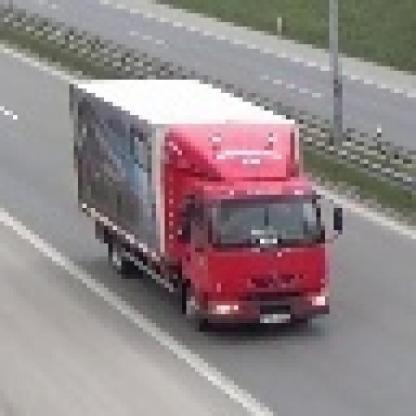truck: (75, 72, 348, 329)
